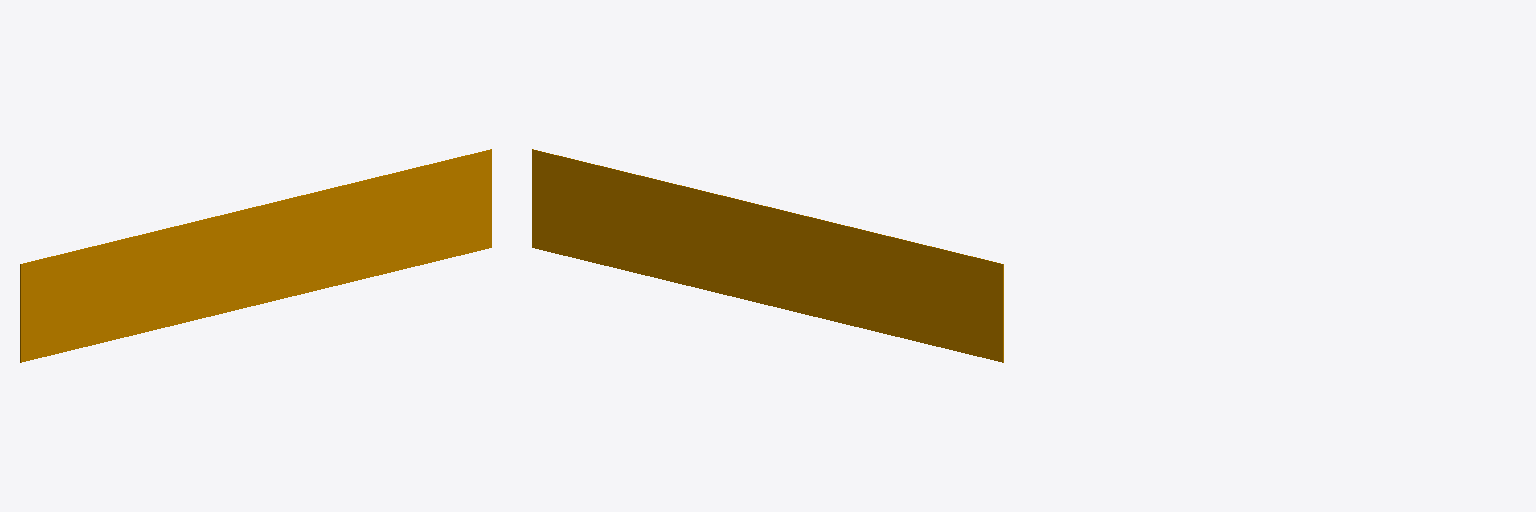
robot.urdf — left_wall:
<?xml version='1.0' encoding='UTF-8'?>
<robot name="left_wall">
  <link name="base_link">
    <inertial>
      <origin xyz="0.0 0.0 0.0" rpy="0.0 -0.0 0.0"/>
      <mass value="1.0"/>
      <inertia ixx="1.0" ixy="0.0" ixz="0.0" iyy="1.0" iyz="0.0" izz="1.0"/>
    </inertial>
    <visual name="base_link_visual">
      <geometry>
        <box size="100 0.1 20"/>
      </geometry>
      <origin xyz="-5 0 -5" rpy="3.14159 3.14159 3.14159"/>
    </visual>
    <collision name="base_link_collision">
      <geometry>
        <box size="100 0.1 20"/>
      </geometry>
      <origin xyz="-5 0 -5" rpy="3.14159 3.14159 3.14159"/>
    </collision>
  </link>
</robot>

--- Facts derived from the render (not from the file) ---
The picture shows the robot from 3 angles, left to right: view 1: azimuth 30°, elevation 25°; view 2: azimuth 150°, elevation 25°; view 3: azimuth 270°, elevation 25°; orthographic projection.
Robot: left_wall — 1 links, 0 joints (none); root link base_link; default pose: every joint at zero.
Links seen in each view (by area): view 1: base_link; view 2: base_link; view 3: none.
Link boxes in pixels (x1,y1,x2,y2): base_link: [20, 149, 491, 362]; base_link: [532, 149, 1003, 362].
Size in the robot's own frame: 100 by 0.1003 by 20 metres.
Geometry: primitives only (box / cylinder / sphere), no mesh files.